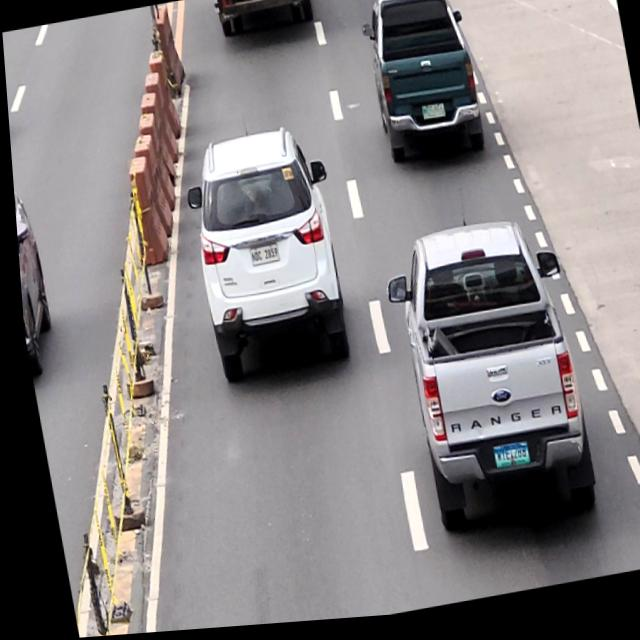Car: (372, 215, 597, 552), (175, 125, 354, 391), (354, 0, 486, 175)
License-Plate: (484, 449, 522, 475), (243, 245, 276, 270), (419, 108, 444, 127)
